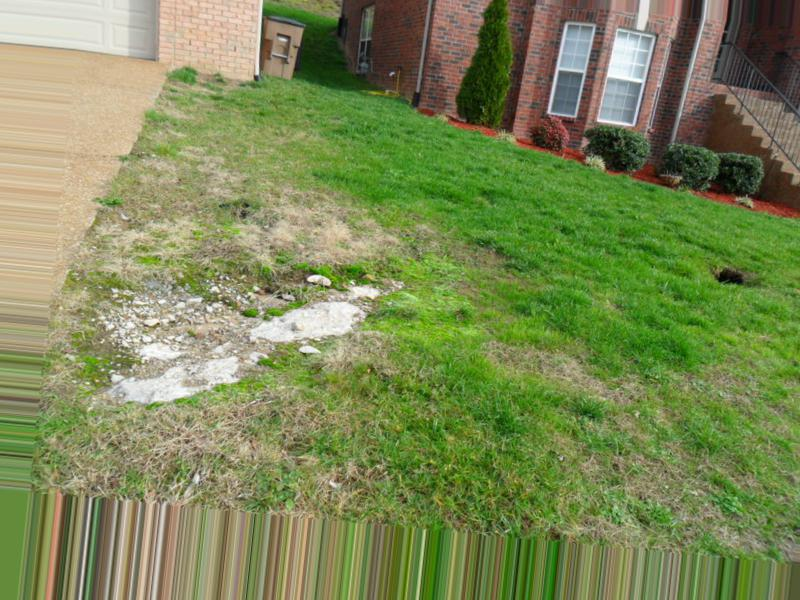patch: (122, 168, 264, 393), (621, 422, 776, 543), (136, 411, 269, 497), (267, 184, 333, 264)
